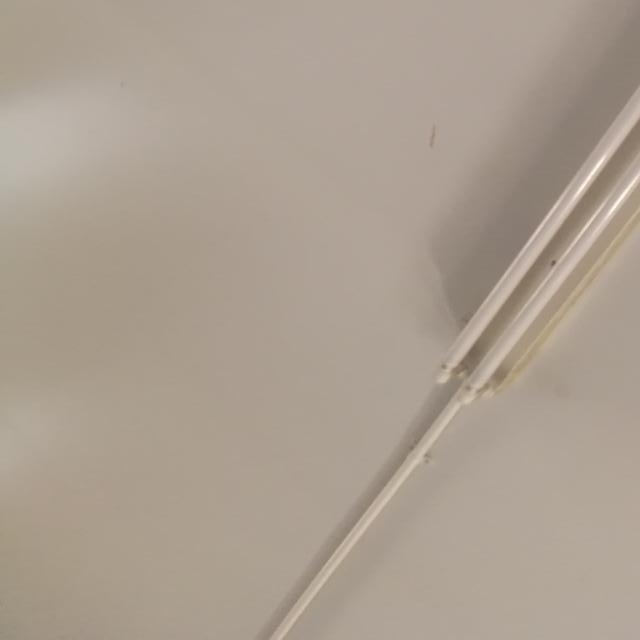fluorescent tube: (375, 0, 640, 421)
